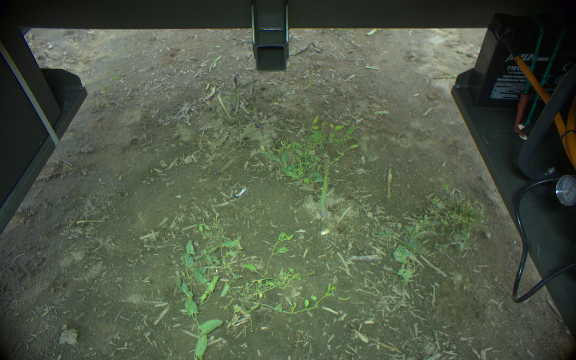aspa: (319, 152, 330, 219), (249, 96, 259, 128), (231, 74, 239, 113), (302, 66, 314, 92), (347, 254, 383, 262)
